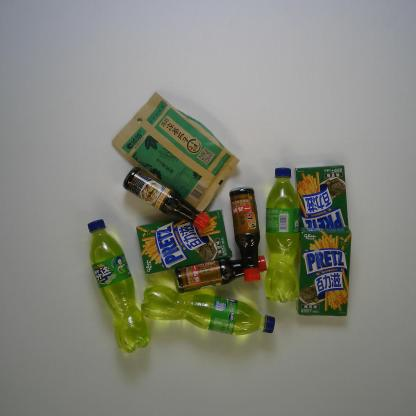Dessert: (136, 208, 233, 277), (295, 224, 352, 318), (294, 164, 350, 228)
Dried Food: (111, 91, 241, 213)
Drink: (87, 219, 151, 354), (140, 283, 276, 336), (262, 166, 302, 305)
Seasoner: (122, 166, 210, 231), (173, 254, 268, 295), (228, 184, 262, 283)
